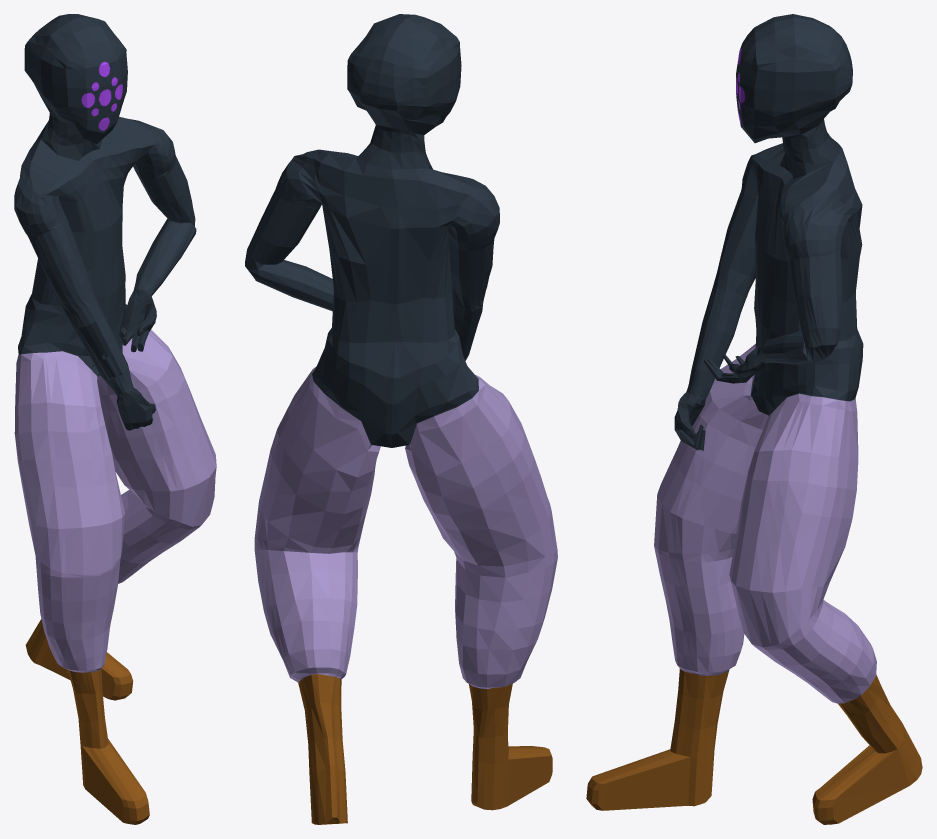
File: Oracle_WF_000020.obj
3 renders of one model, left to right at view 1: azimuth 30°, elevation 25°; view 2: azimuth 150°, elevation 25°; view 3: azimuth 270°, elevation 25°, orthographic. The views are drawn at different scales.
Visible parts, largest first — view 1: Cube; view 2: Cube; view 3: Cube.
Part boxes in pixels (x1,y1,x2,y2): Cube: [14, 14, 216, 824]; Cube: [245, 14, 557, 824]; Cube: [586, 14, 922, 824].
Size of the model in its own units: 1.2 by 3.85 by 1.46.
